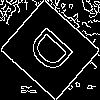D: (25, 24, 83, 82)
